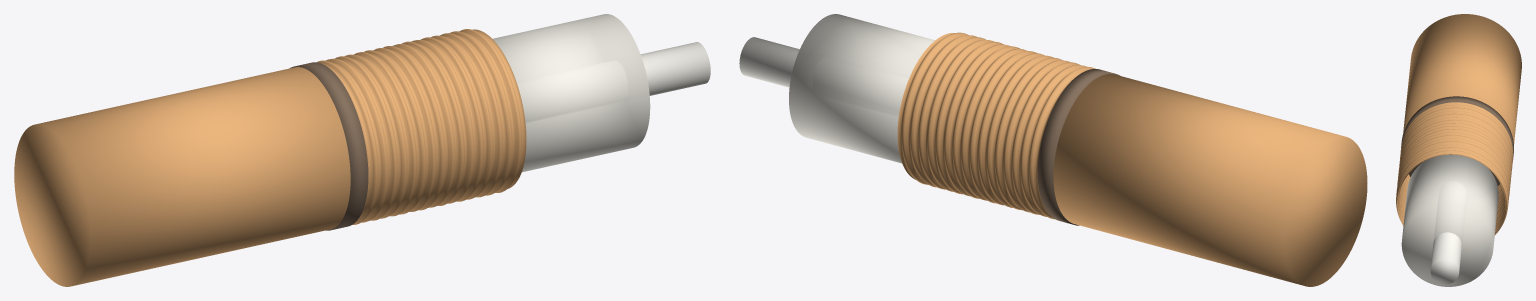
The picture shows the model from 3 angles, left to right: view 1: azimuth 30°, elevation 25°; view 2: azimuth 150°, elevation 25°; view 3: azimuth 270°, elevation 25°; orthographic projection. The views are drawn at different scales.
Visible parts, largest first — view 1: rear solid outer conductor tube, exposed solid outer conductor sleeve, ptfe dielectric core, outer conductor cut lip, solid center conductor continuous; view 2: rear solid outer conductor tube, exposed solid outer conductor sleeve, ptfe dielectric core, outer conductor cut lip, solid center conductor continuous; view 3: ptfe dielectric core, rear solid outer conductor tube, exposed solid outer conductor sleeve, solid center conductor continuous, outer conductor cut lip.
Boxes of the visible parts, left/top/right/bottom form: rear solid outer conductor tube: left=14, top=67, right=350, bottom=286; exposed solid outer conductor sleeve: left=317, top=29, right=526, bottom=224; ptfe dielectric core: left=492, top=14, right=650, bottom=172; outer conductor cut lip: left=290, top=62, right=368, bottom=230; solid center conductor continuous: left=640, top=42, right=710, bottom=95; rear solid outer conductor tube: left=1053, top=74, right=1367, bottom=286; exposed solid outer conductor sleeve: left=897, top=32, right=1095, bottom=219; ptfe dielectric core: left=789, top=14, right=934, bottom=163; outer conductor cut lip: left=1037, top=69, right=1120, bottom=225; solid center conductor continuous: left=739, top=37, right=799, bottom=87; ptfe dielectric core: left=1401, top=154, right=1498, bottom=286; rear solid outer conductor tube: left=1403, top=14, right=1521, bottom=143; exposed solid outer conductor sleeve: left=1396, top=102, right=1512, bottom=234; solid center conductor continuous: left=1430, top=232, right=1461, bottom=284; outer conductor cut lip: left=1401, top=96, right=1513, bottom=185.
Size of the model in its own units: 6.02 by 1.38 by 1.54.
